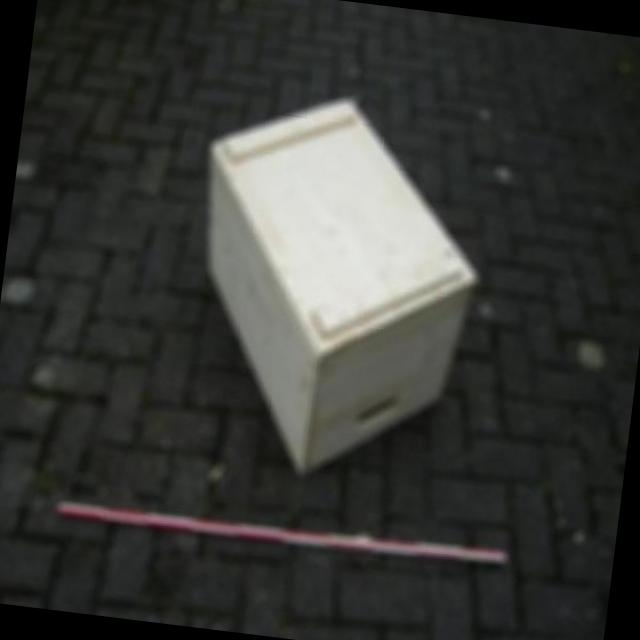box: (141, 80, 512, 521)
